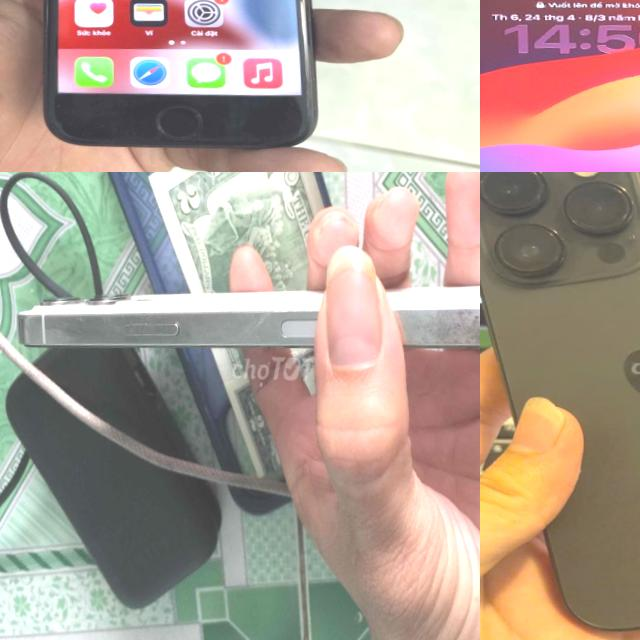gen_12_13: (15, 250, 480, 388)
gen_14: (480, 172, 640, 633)
gen_16: (480, 0, 640, 172)
gen_7_8: (11, 0, 336, 156)
scratch: (48, 300, 185, 356), (396, 275, 480, 352), (298, 61, 322, 124), (240, 299, 272, 345)
